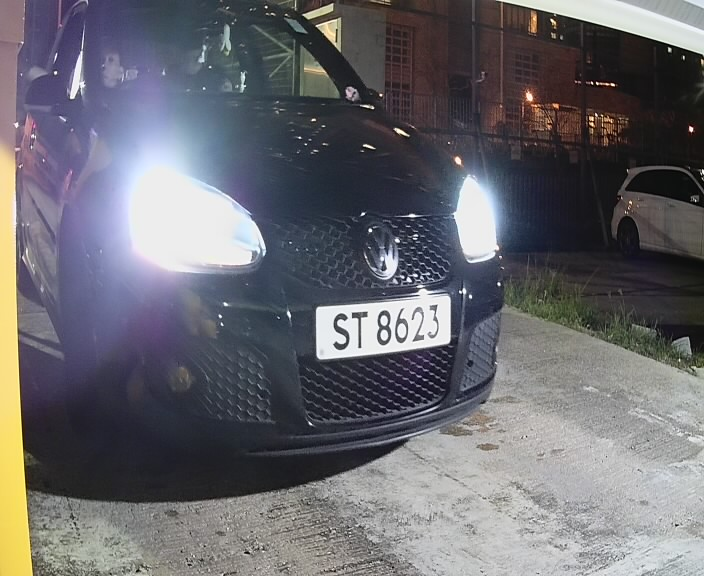Car: (2, 2, 528, 501)
License Plate: (310, 288, 455, 367), (359, 34, 428, 111)
